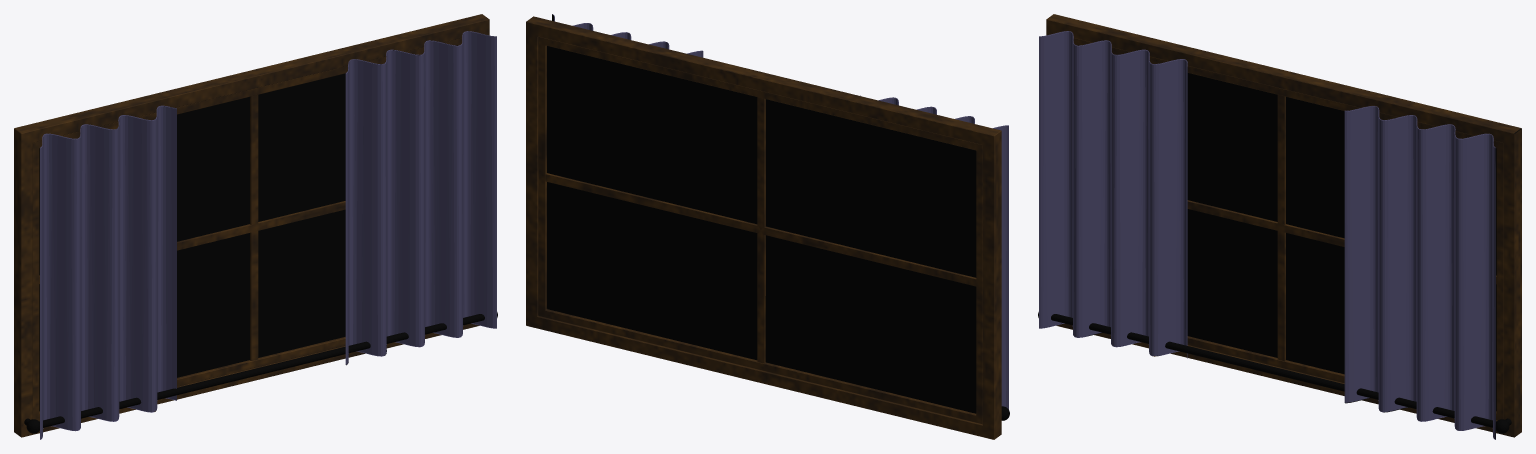
Rendered from WindowFactory73448.spawn_asset10.glb.
The picture shows the model from 3 angles, left to right: view 1: azimuth 30°, elevation 25°; view 2: azimuth 150°, elevation 25°; view 3: azimuth 330°, elevation 25°; orthographic projection.
Visible parts, largest first — view 1: WindowFactory(73448).spawn_asset(10).001; view 2: WindowFactory(73448).spawn_asset(10).001; view 3: WindowFactory(73448).spawn_asset(10).001.
Boxes of the visible parts, left/top/right/bottom form: WindowFactory(73448).spawn_asset(10).001: left=14, top=14, right=497, bottom=439; WindowFactory(73448).spawn_asset(10).001: left=526, top=14, right=1009, bottom=439; WindowFactory(73448).spawn_asset(10).001: left=1038, top=14, right=1521, bottom=439.
Bounding box in the file's own units: 2.31 × 1.43 × 0.1766.
1 material, 1 textured.
